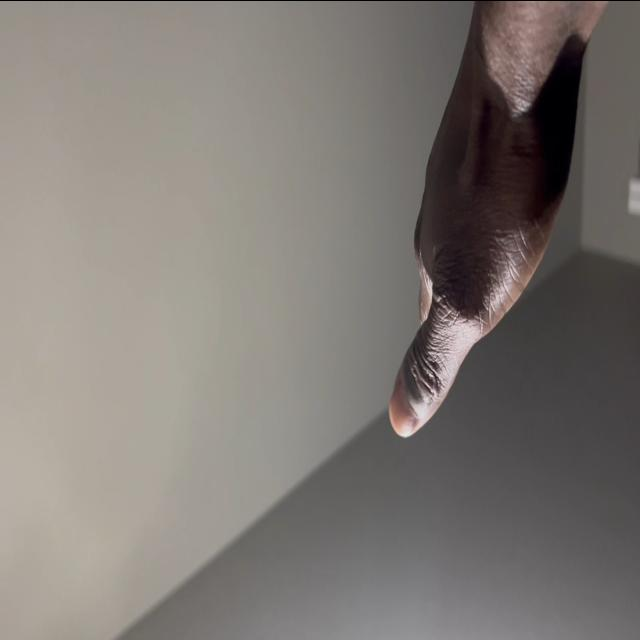Paper: (386, 14, 592, 437)
